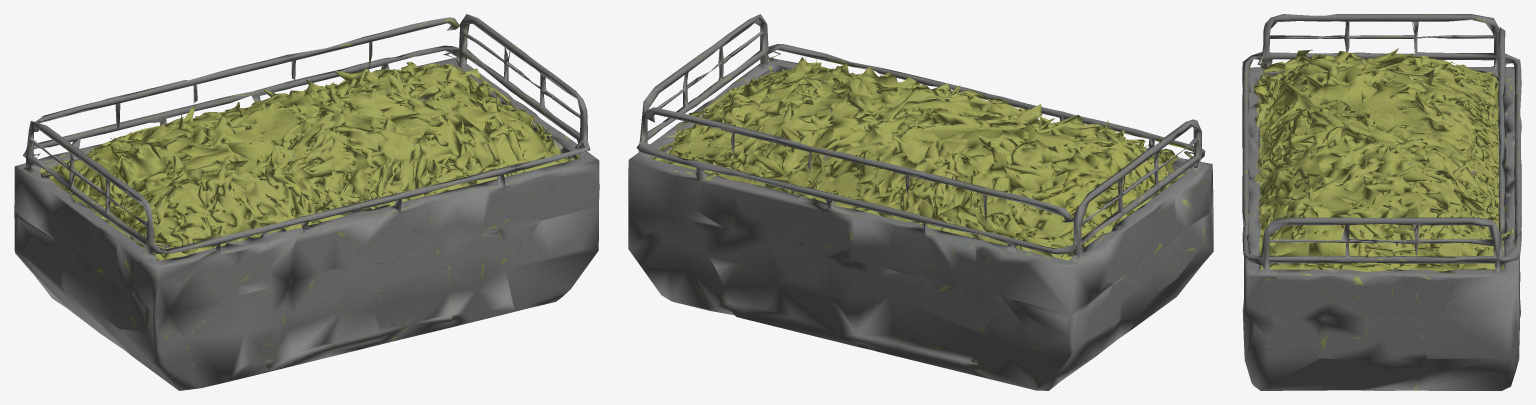
File: feed-bunk.glb
3 renders of one model, left to right at view 1: azimuth 30°, elevation 25°; view 2: azimuth 150°, elevation 25°; view 3: azimuth 270°, elevation 25°, orthographic. The views are drawn at different scales.
Size of the model in its own units: 1.9 by 0.7957 by 1.07.
1 material, 1 textured.
